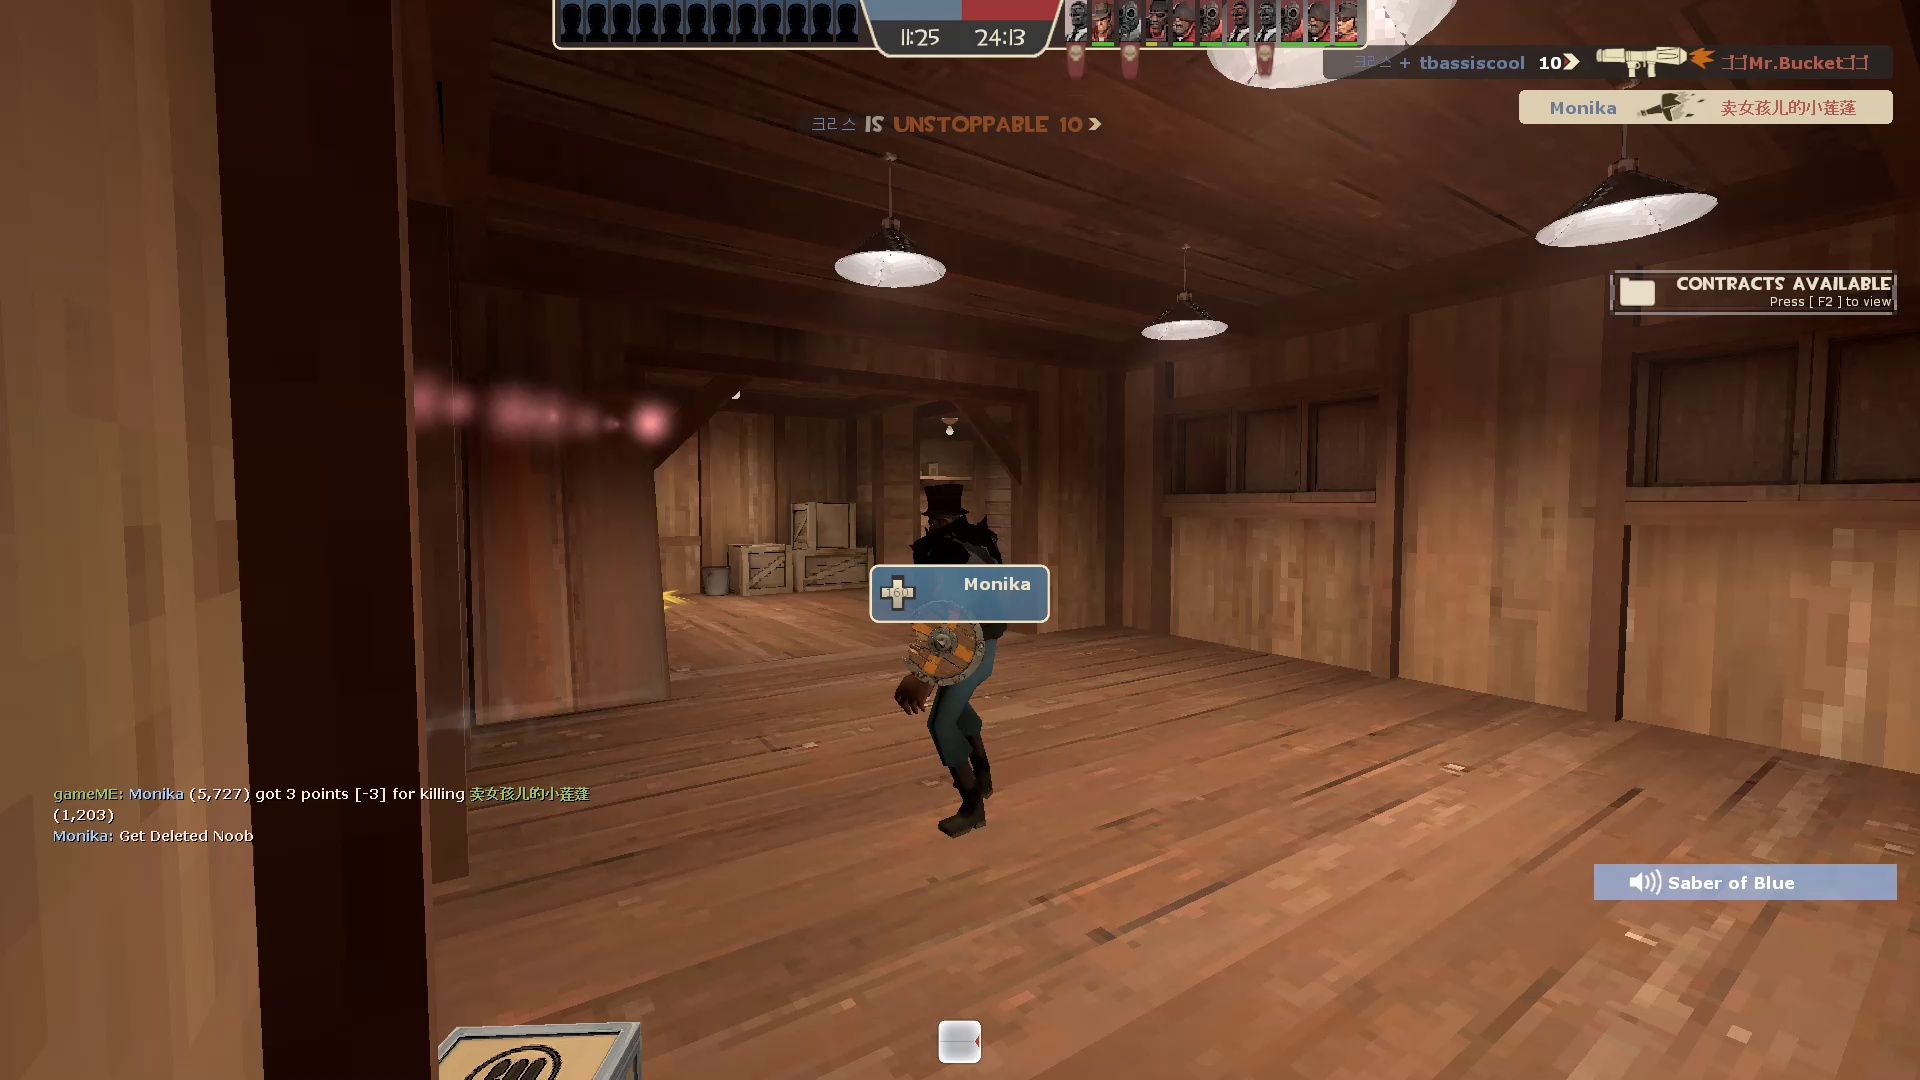blu_demo: (870, 473, 1035, 851)
